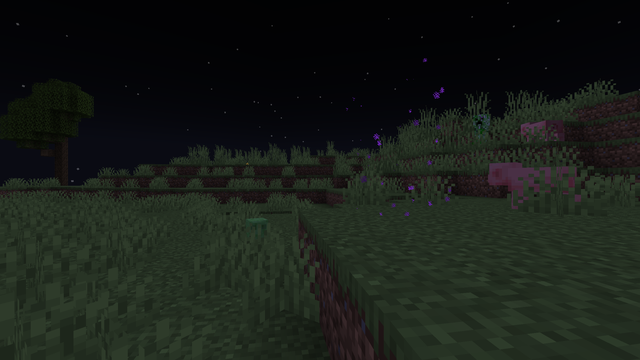cochons: (503, 165, 583, 212), (523, 119, 565, 141)
creepers: (470, 111, 491, 141)
slimes: (246, 217, 266, 239)
